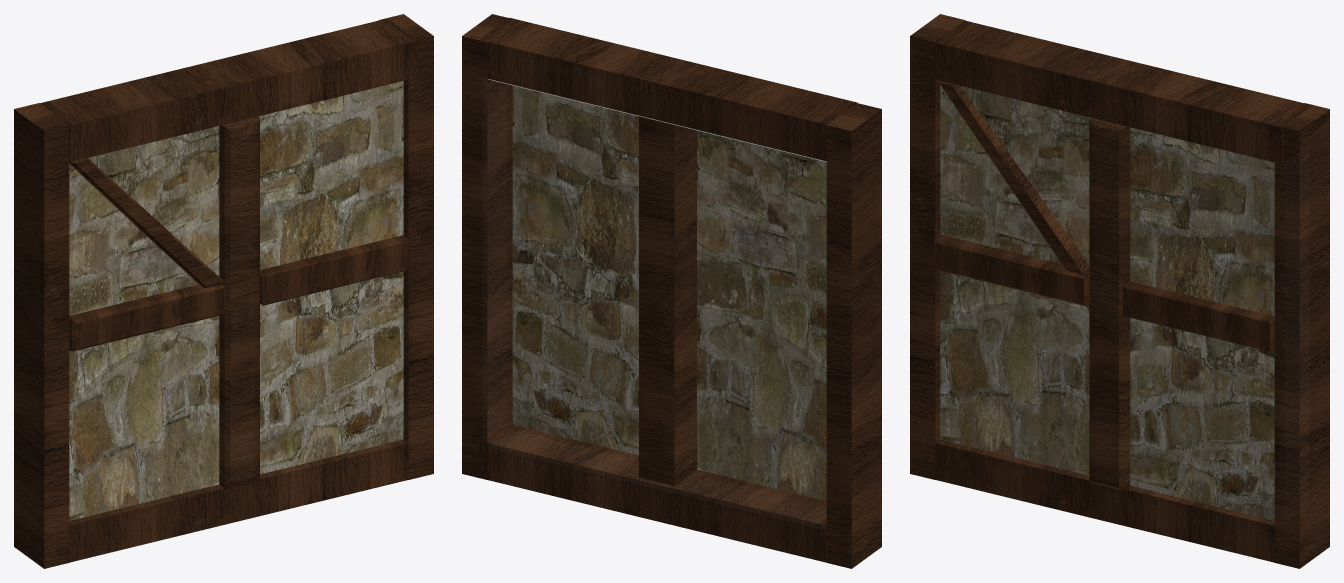
Rendered from BuildingWallTile4.fbx.
3 renders of one model, left to right at view 1: azimuth 30°, elevation 25°; view 2: azimuth 150°, elevation 25°; view 3: azimuth 330°, elevation 25°, orthographic.
Parts seen in each view (by area): view 1: BuildingWallTile4; view 2: BuildingWallTile4; view 3: BuildingWallTile4.
Part boxes in pixels (left/top/right/bottom): BuildingWallTile4: left=14, top=14, right=433, bottom=568; BuildingWallTile4: left=462, top=14, right=881, bottom=568; BuildingWallTile4: left=910, top=14, right=1329, bottom=568.
Size of the model in its own units: 3.73 by 4.01 by 0.5538.
Materials: 3 (2 with a texture image).
